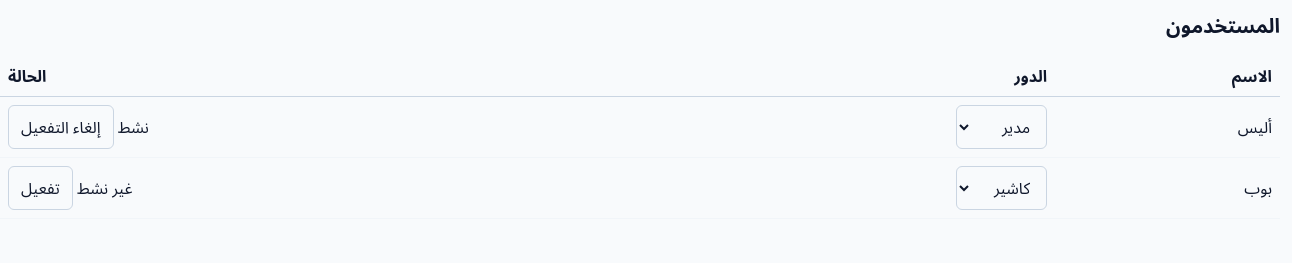
Test: UsersPage › toggles status to active and shows success in Arabic
Expected: the text "بوب" is shown, [1244,177,1272,199]
Click the button with aria-label "بوب تفعيل": {"x": 40, "y": 188} [8,166,73,210]
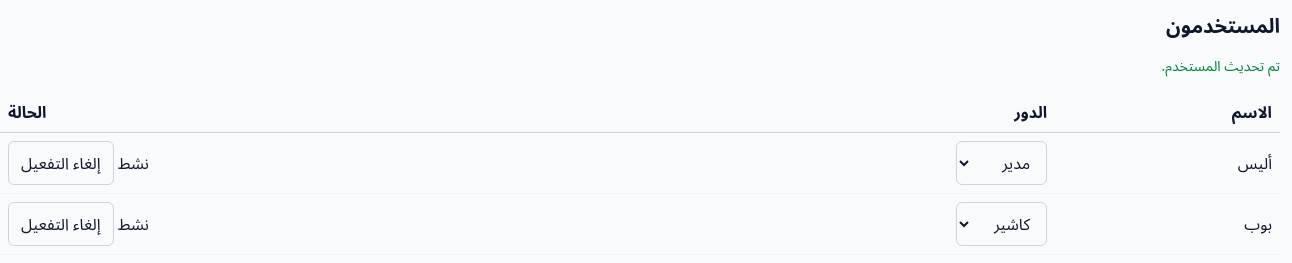
Now the text "تم تحديث المستخدم." is shown, box [1162,56,1280,75]
